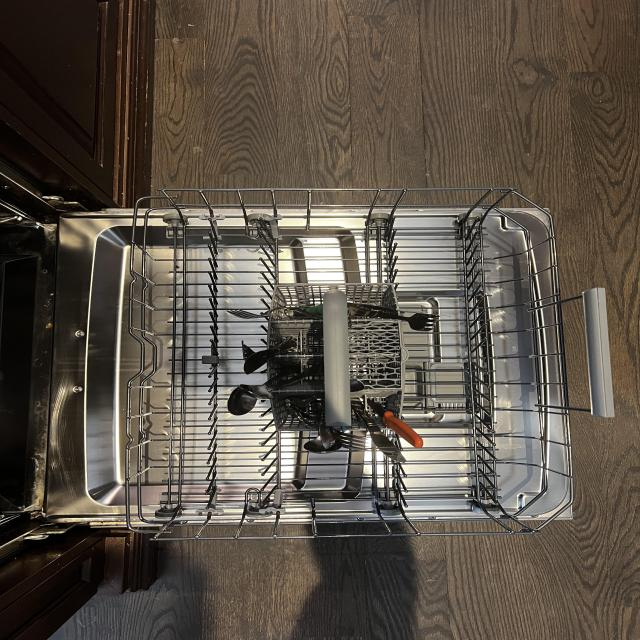Fork: (348, 304, 440, 332), (228, 302, 322, 320), (335, 428, 369, 453), (289, 391, 324, 411), (240, 338, 264, 361)
Knife: (350, 396, 409, 465), (364, 396, 425, 449), (348, 296, 451, 319), (243, 336, 298, 374)
Spoon: (228, 361, 324, 417), (238, 366, 300, 400), (304, 426, 342, 454), (319, 421, 338, 448)
